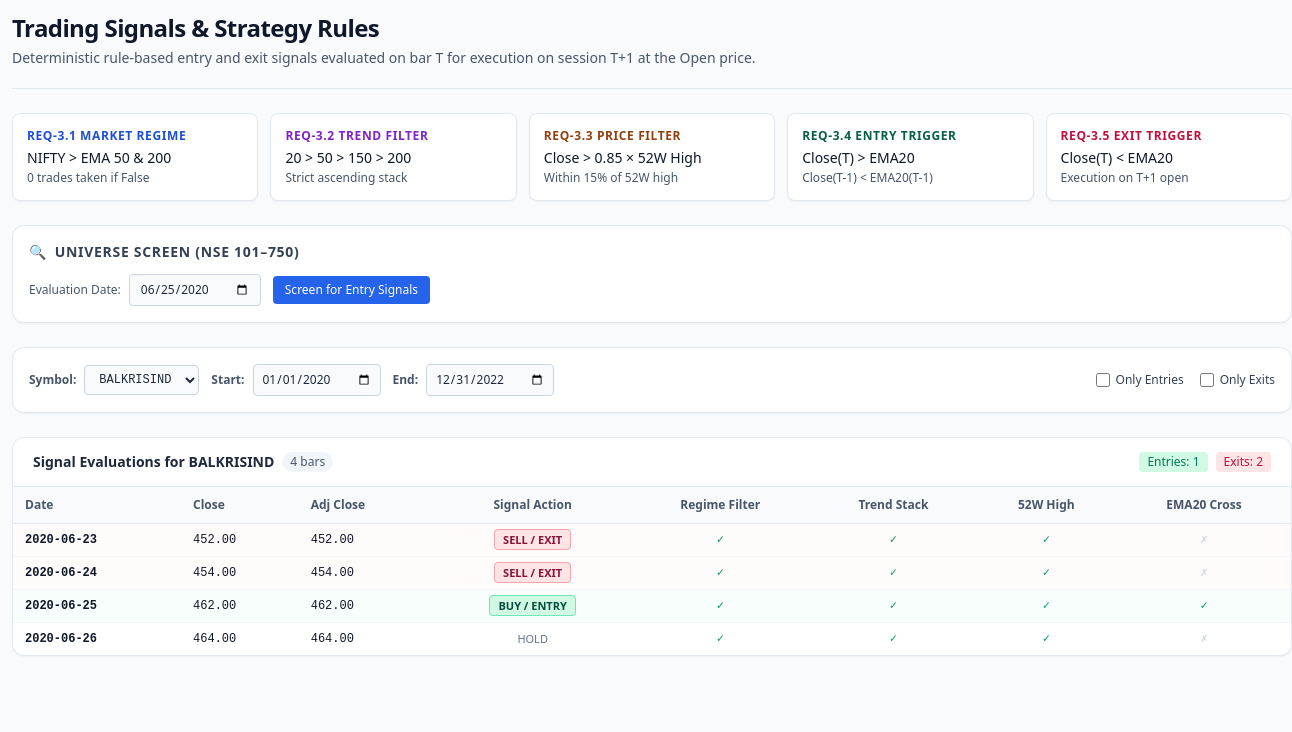
Scenario: SignalsPage Component › toggles 'Only Entries' filter to display only entry rows
This screenshot has width=1292, height=732.
Expected: the table with test id "signals-table" is shown, [13,487,1291,655]
Expected: the number of rows with test id "signal-row" is 4, [13,524,1291,556]; [13,556,1291,590]; [13,590,1291,622]; [13,622,1291,655]
Note: Toggle Only Entries checkbox
Click the checkbox with test id "only-entries-toggle": (1102, 380) [1096,373,1110,387]
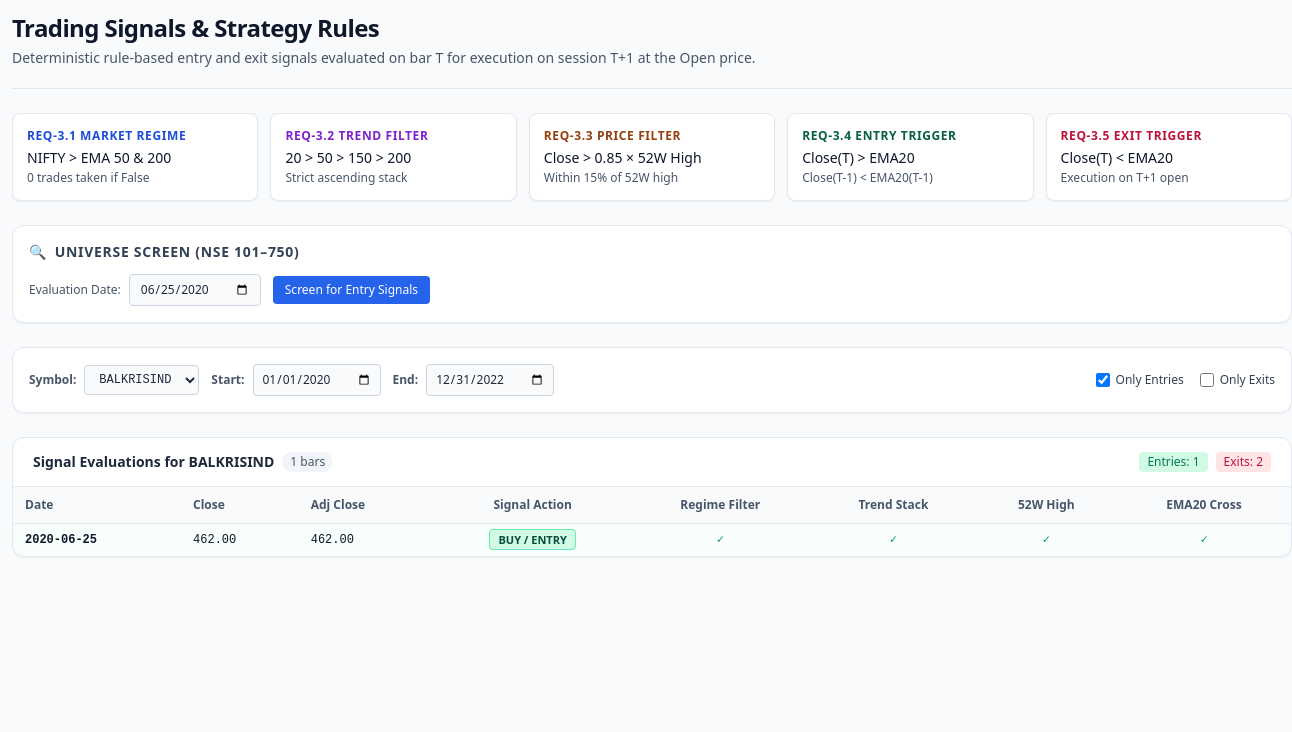
Expected: the row with test id "signal-row" shows "2020-06-25", [25,533,97,547]
Now the number of rows with test id "signal-row" is 1, box [13,524,1291,556]
Now the text with test id "exit-badge" is gone
